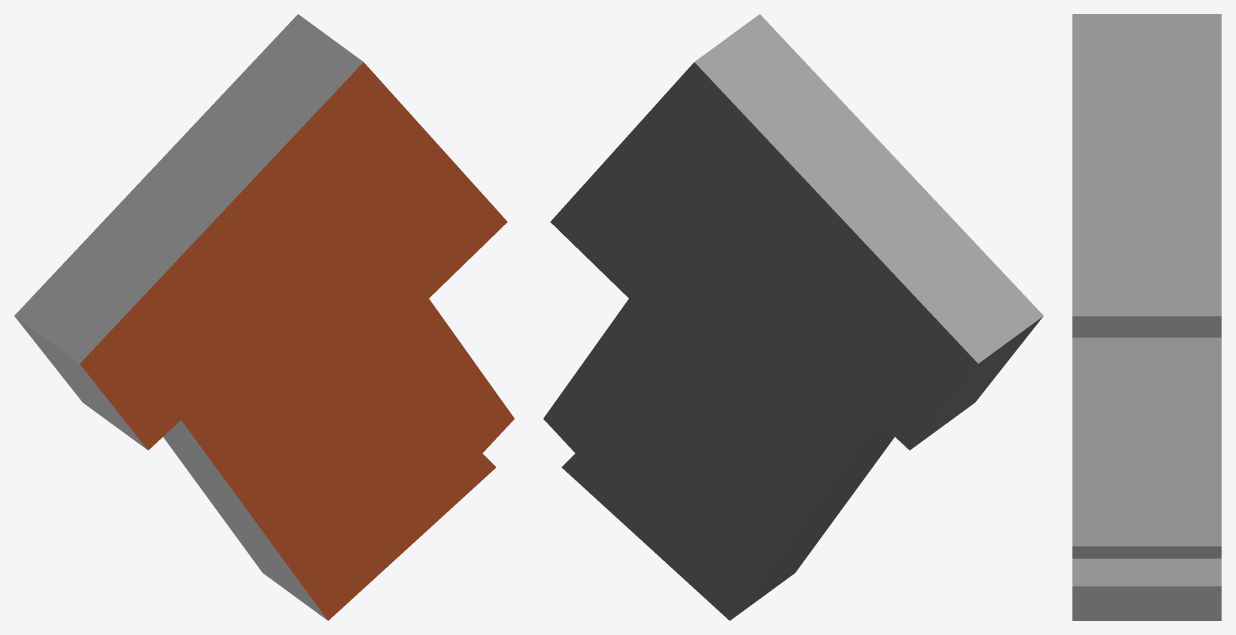
Rendered from construction_3840_assumed_A_Casa_h6m.obj.
3 views of the same model, side by side, from view 1: azimuth 30°, elevation 25°; view 2: azimuth 150°, elevation 25°; view 3: azimuth 270°, elevation 25° (orthographic). The views are drawn at different scales.
Parts seen in each view (by area): view 1: construction_3840_assumed_A_Casa; view 2: construction_3840_assumed_A_Casa; view 3: construction_3840_assumed_A_Casa.
Boxes of the visible parts, box(x1,y1,x2,y2) form: construction_3840_assumed_A_Casa: box(14, 14, 514, 620); construction_3840_assumed_A_Casa: box(543, 14, 1043, 620); construction_3840_assumed_A_Casa: box(1072, 14, 1221, 620).
Size of the model in its own units: 22.99 by 27.79 by 6.
